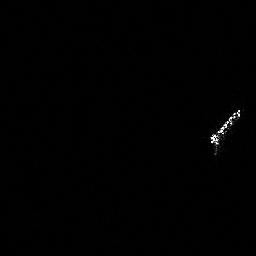ship: (208, 106, 242, 157)
